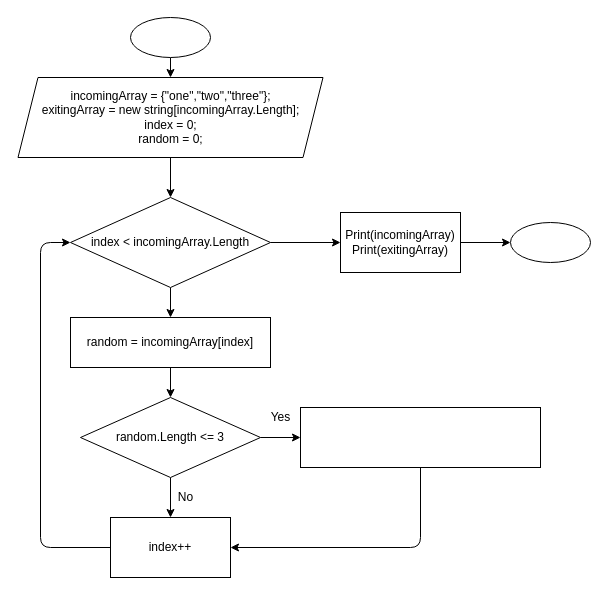
Image size: 608x595. Some labels were removed from this diagram. The shapes that lost their labels are listed below. From the top down, each one's box as (x1, y1, x2, y2) in pixels, then its label:
(130, 16, 210, 58): Начало
(510, 222, 590, 262): Конец
(300, 406, 540, 468): exitingArray[index] = incomingArray[index]
